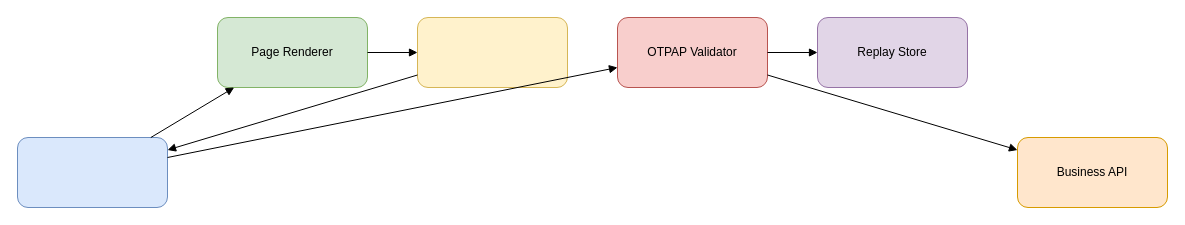
Some shapes in this 1185 by 225 pixel diagram are drawn without their labels. The shapes that lost their labels are listed below. From the top down, each one's centre as x and y in pixels, then its label:
At (x=492, y=52): "OTPAP Generator".
At (x=92, y=172): "Browser / Client".
